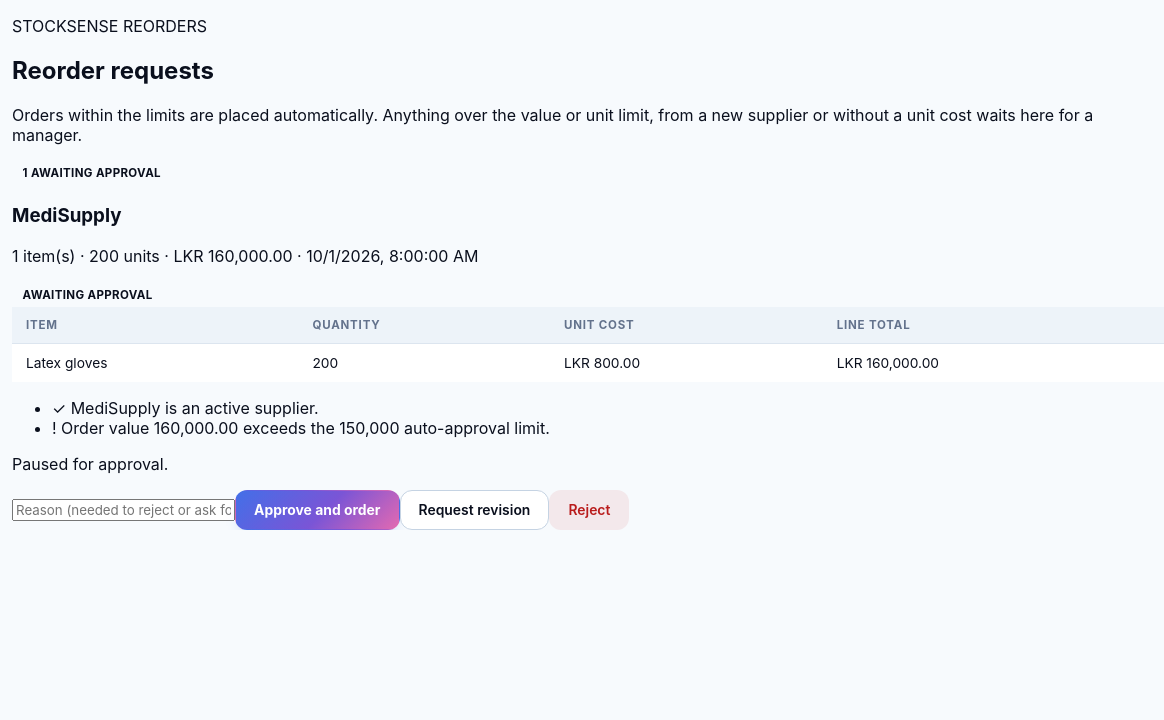
Scenario: ReorderApprovals › sends the reason with a revision request
In the field named "Reason for rejecting or revising": [124, 510] box [12,499,235,521], type "Split it"
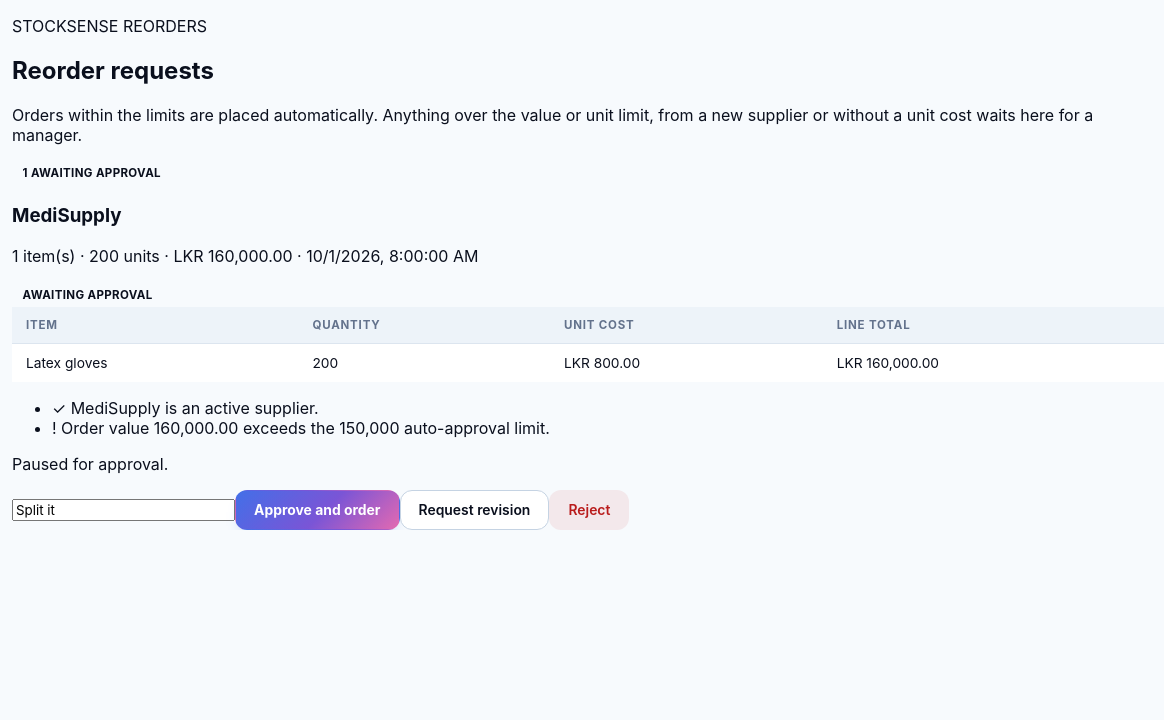
Click the button "Request revision": [474, 510] box [400,490,549,530]
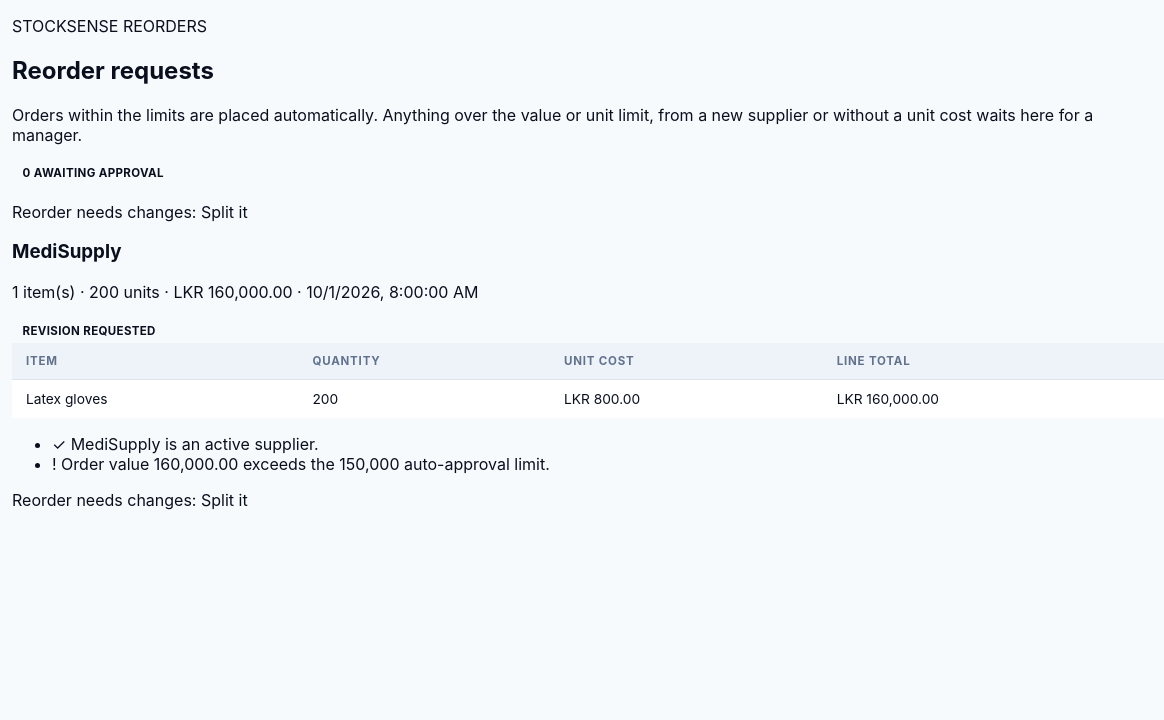
Now the text "Revision requested" is shown, box [23,324,156,338]
